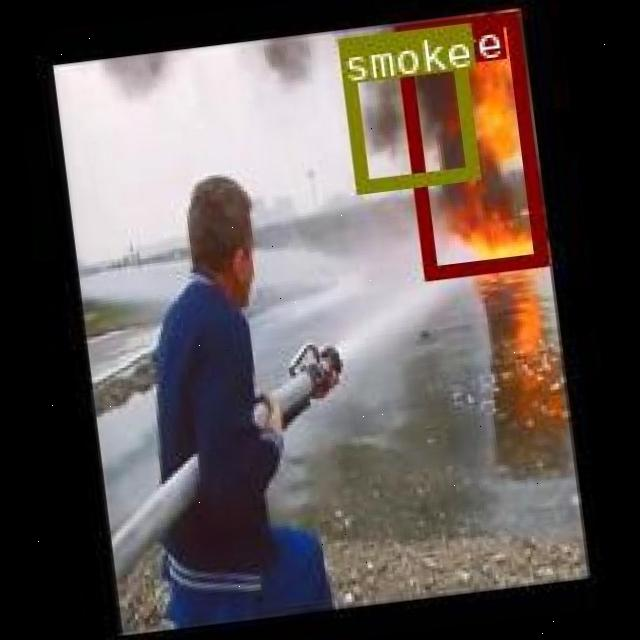fire: (392, 11, 546, 276)
smoke: (336, 22, 478, 190)
